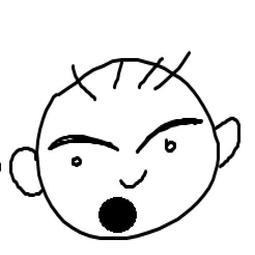ear: (2, 144, 44, 200), (212, 108, 246, 171)
eyebrow: (46, 131, 123, 150)
frowning_eyebrow: (133, 116, 204, 157)
nose: (111, 162, 153, 191)
open_mouth: (94, 195, 139, 233)
small_eye: (62, 153, 85, 174), (159, 139, 185, 157)
